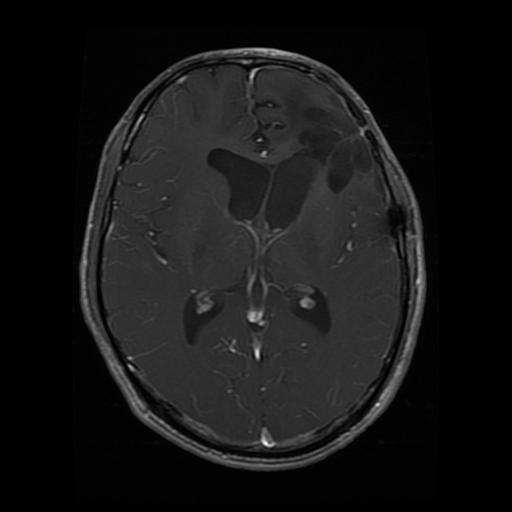Gliomia_tumour: (296, 94, 372, 193)
